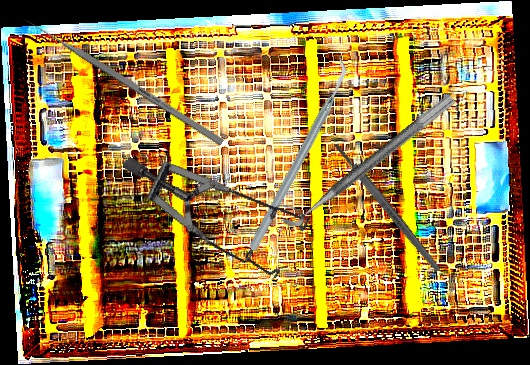Chopper: (191, 53, 405, 254)
Fixation Ring: (272, 79, 457, 233)
Pusher: (23, 16, 225, 146)
Scalpel Handle: (331, 141, 443, 274)
Speculum: (121, 96, 328, 316)
